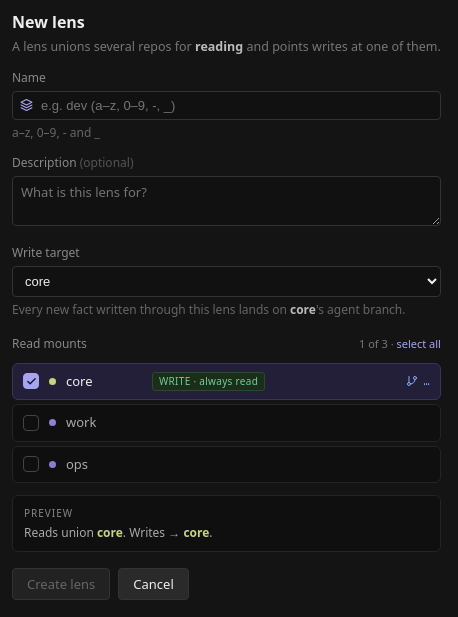
Test: CreateLensForm › disables Create and explains when the name collides with a repo
The image size is (458, 617).
Type "core" into the field with test id "lens-name" at (226, 105), box [12,90,441,120]
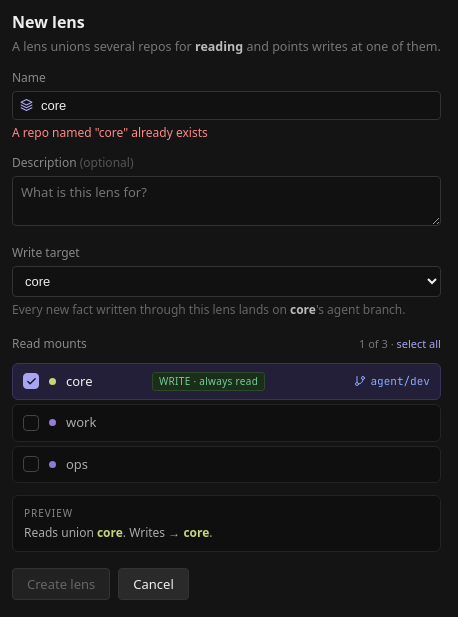
Expected: the button with test id "lens-create" is disabled, [12,568,110,600]
Now the text with test id "lens-name-status" shows "already exists", box [12,124,208,140]
